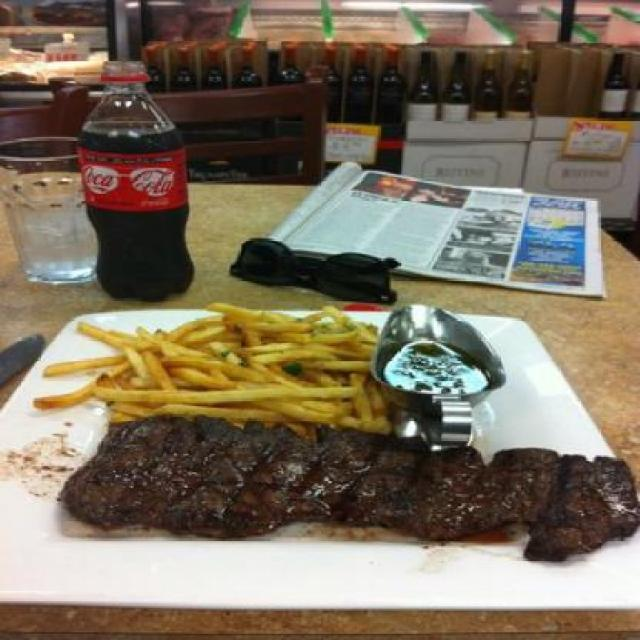French fries: (82, 306, 381, 420)
Steak: (64, 418, 638, 550)
